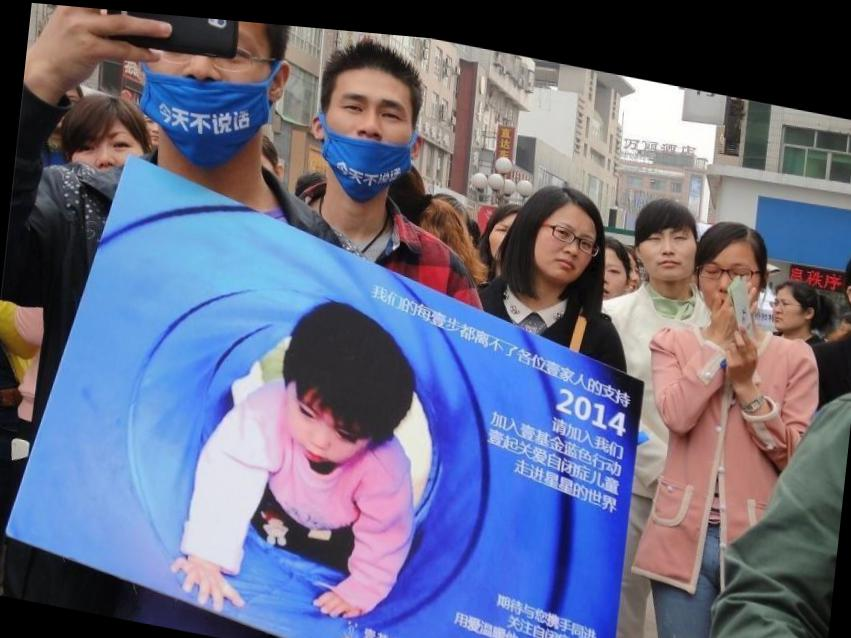NONE: (279, 374, 369, 471), (537, 202, 600, 274), (699, 235, 763, 305), (642, 211, 697, 268), (585, 240, 630, 294), (771, 280, 805, 320)
WRONG: (137, 11, 278, 167), (320, 71, 420, 180), (69, 119, 146, 197)
